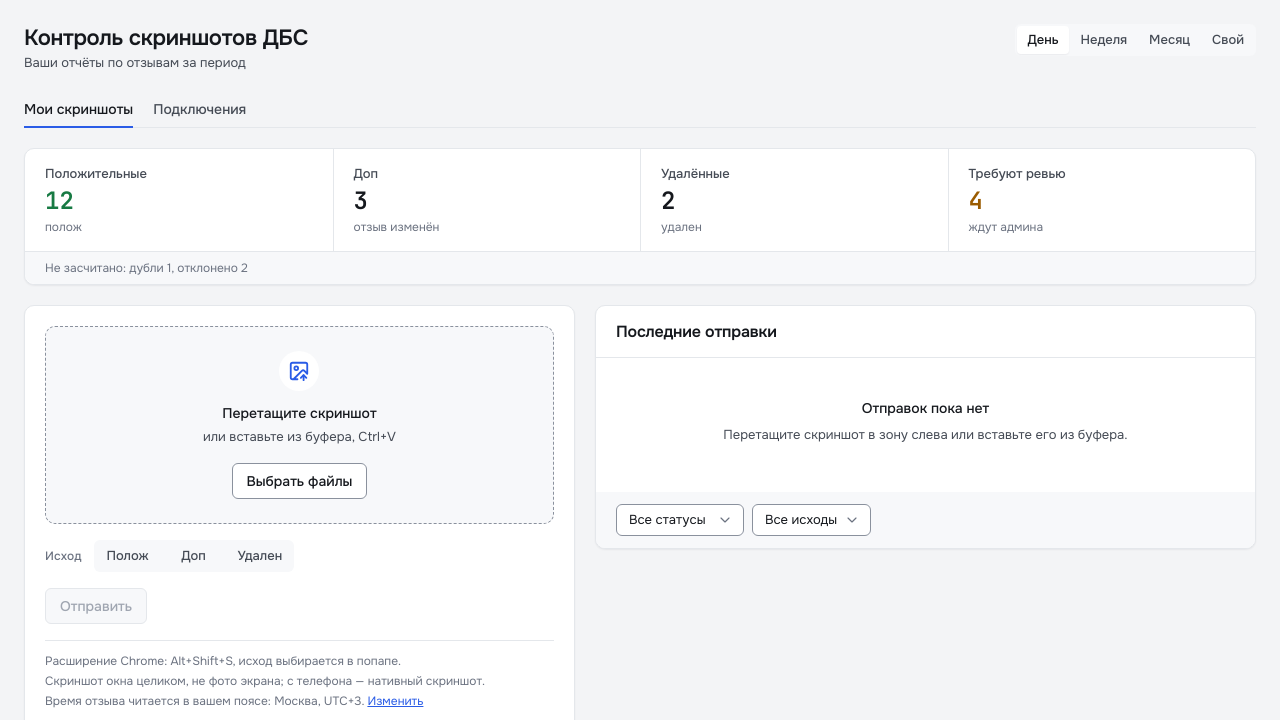
Test: ScreenshotControlPage › saves the chosen timezone with PUT and updates the hint
Click the tab "Подключения": click(200, 110) [153,92,246,128]
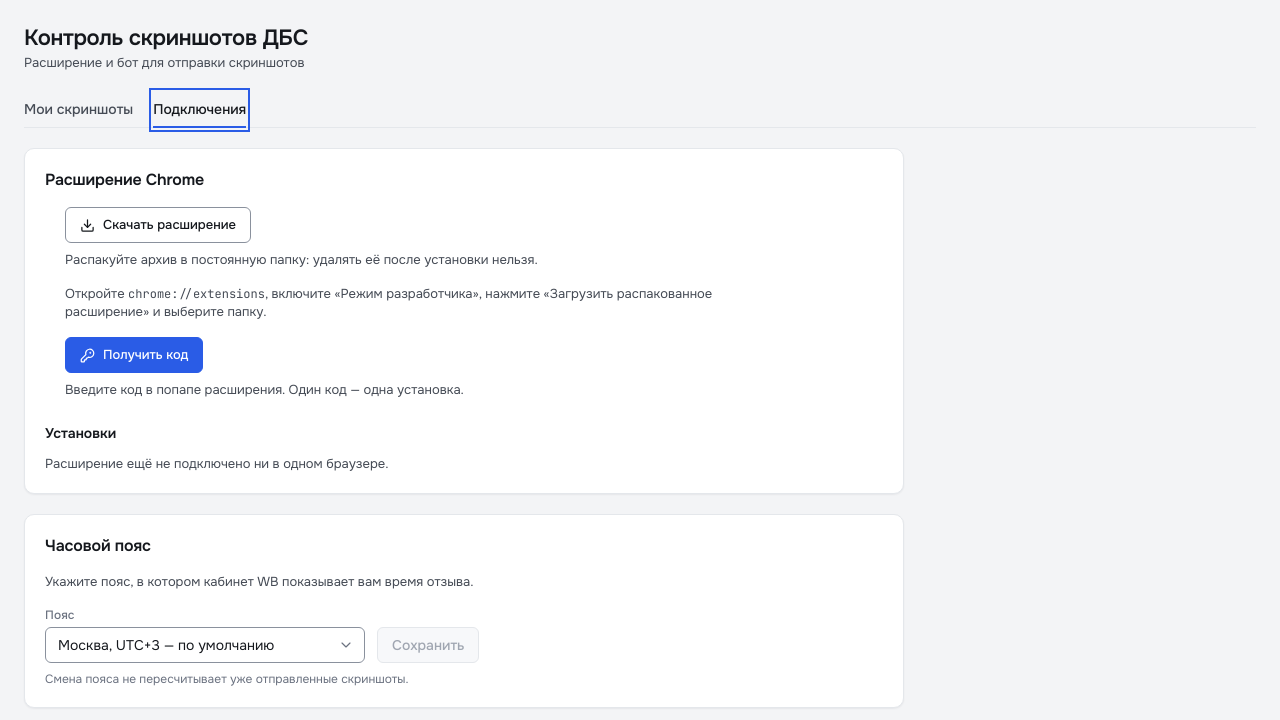
Check: the button "Сохранить" is disabled, box [377,627,480,663]
Select "Екатеринбург, UTC+5" in the dropdown labelled "Пояс": (205, 645) [45,627,365,663]
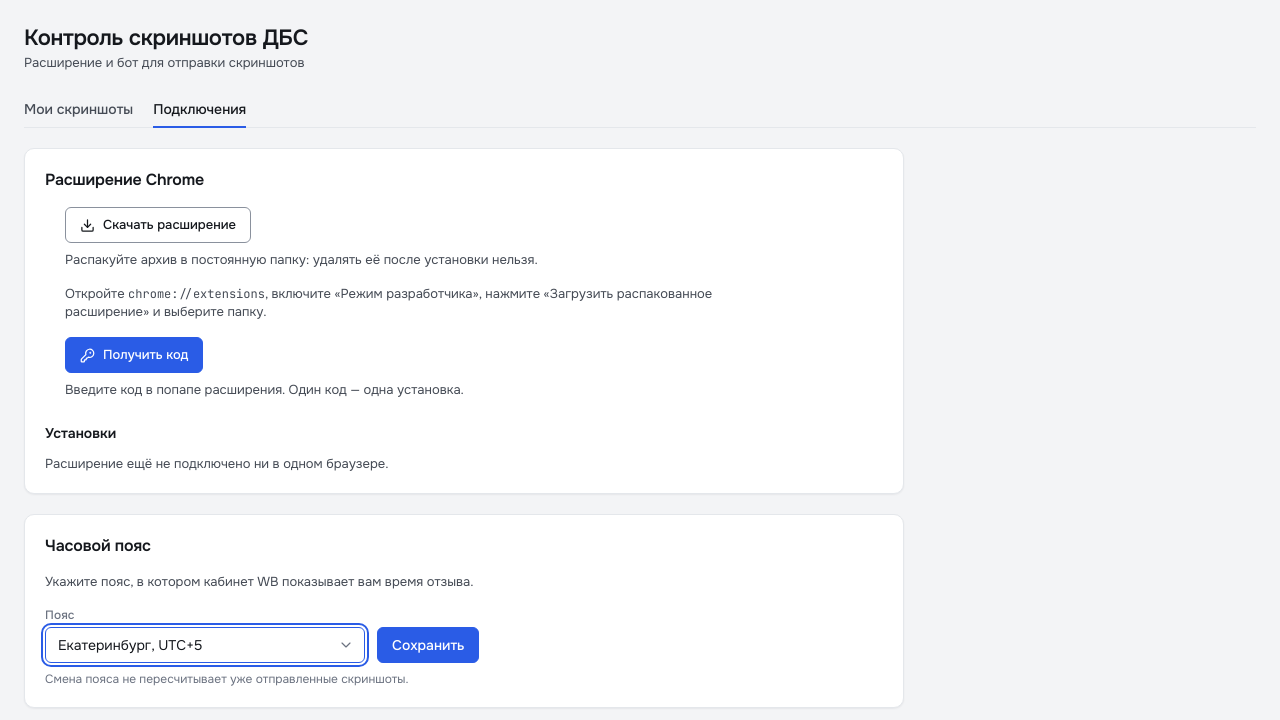
Click the button "Сохранить": click(428, 645) [377,627,480,663]
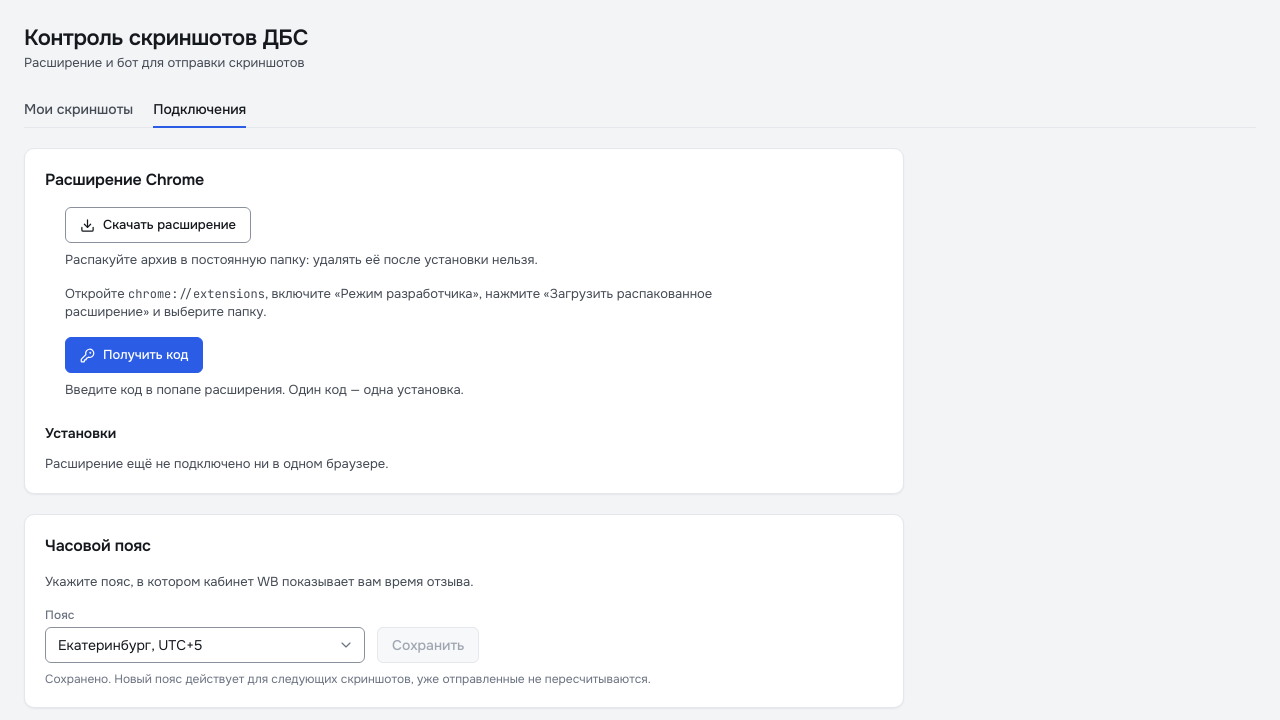
Check: the message shows "Сохранено", box [45,671,651,687]
Click the tab "Мои скриншоты": click(79, 110) [24,92,133,128]
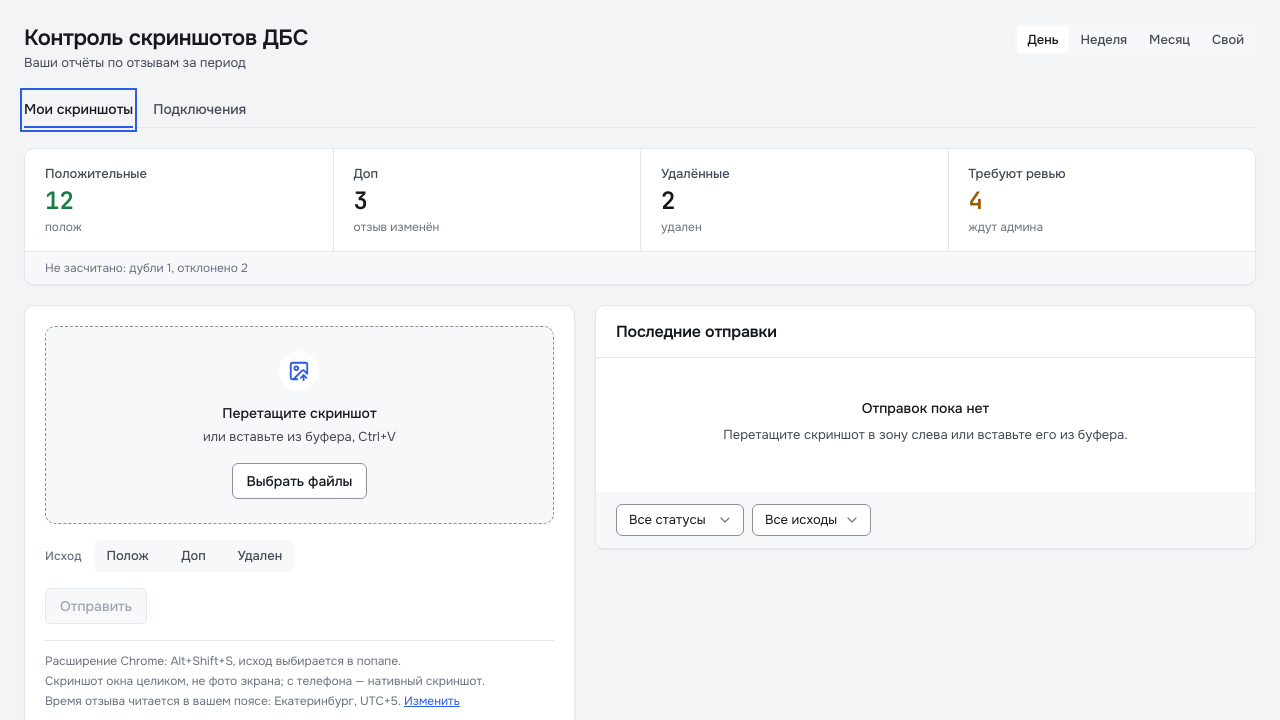
Check: the list item "читается в вашем поясе: Екатеринбург, UTC+5." is shown, box [45,693,460,709]
